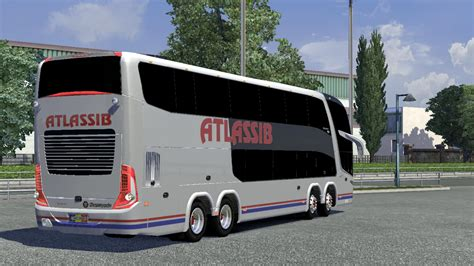bus: (35, 53, 356, 239)
